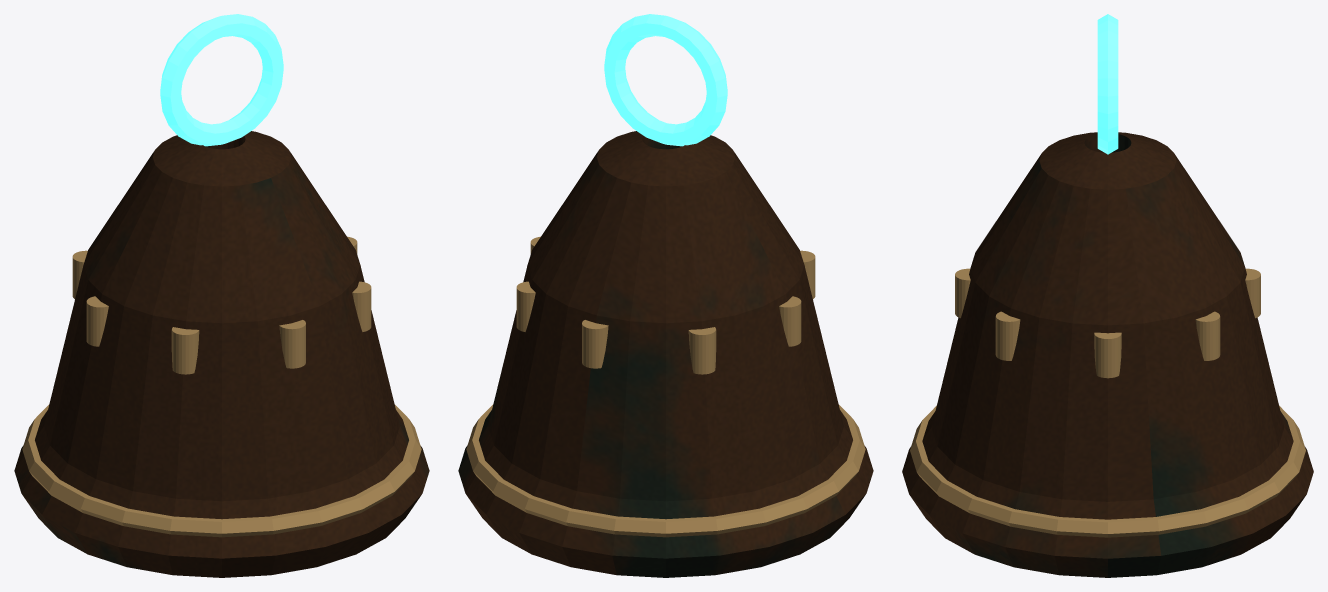
Rendered from votive_bell.fbx.
3 renders of one model, left to right at view 1: azimuth 30°, elevation 25°; view 2: azimuth 150°, elevation 25°; view 3: azimuth 270°, elevation 25°, orthographic.
Visible parts, largest first — view 1: votive_bell_Body.011, votive_bell_Grip.011; view 2: votive_bell_Body.011, votive_bell_Grip.011; view 3: votive_bell_Body.011, votive_bell_Grip.011.
Boxes of the visible parts, x1,y1,x2,y2 form: votive_bell_Body.011: (14,131,429,577); votive_bell_Grip.011: (160,14,283,146); votive_bell_Body.011: (458,131,873,577); votive_bell_Grip.011: (604,14,727,146); votive_bell_Body.011: (902,132,1313,577); votive_bell_Grip.011: (1097,14,1118,154).
Bounding box in the file's own units: 0.21 × 0.269 × 0.21.
3 materials, 1 textured.
